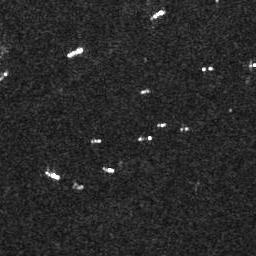ship: (66, 46, 83, 59), (44, 170, 61, 181), (149, 9, 165, 19), (138, 134, 154, 143), (101, 164, 115, 174), (89, 137, 102, 144), (140, 88, 150, 94), (157, 122, 168, 127)
